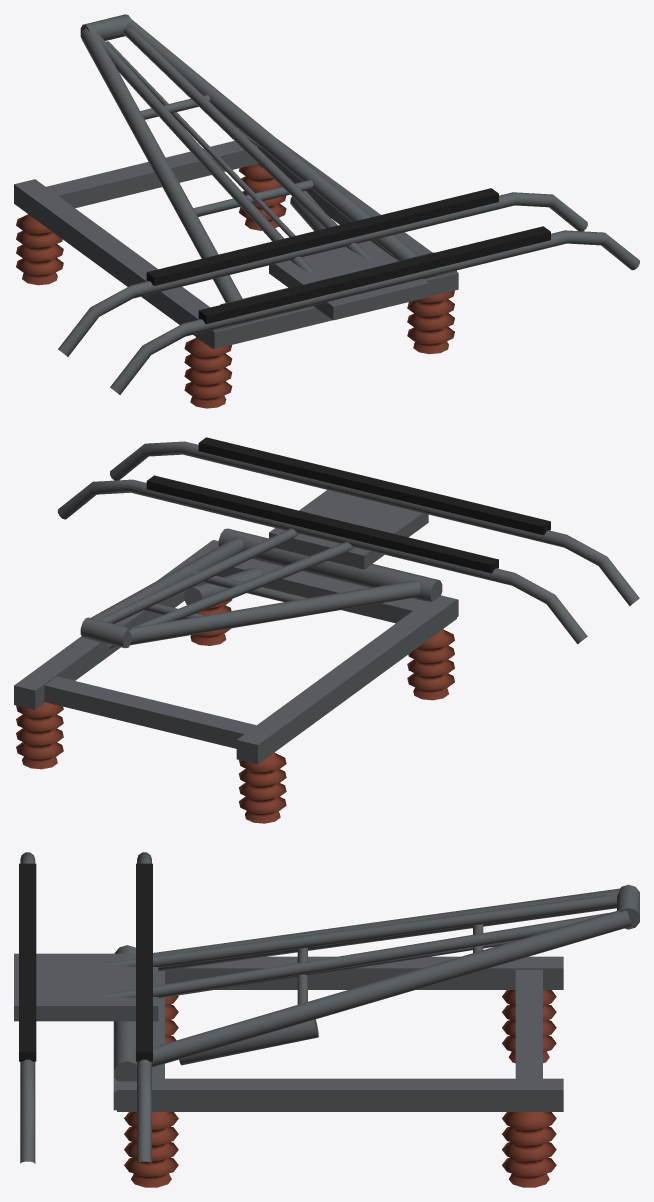
Rendered from pantograph_lod0.glb.
3 renders of one model, top to bottom at view 1: azimuth 30°, elevation 25°; view 2: azimuth 150°, elevation 25°; view 3: azimuth 270°, elevation 25°, orthographic. The views are drawn at different scales.
Parts seen in each view (by area): view 1: panto_head, panto_base, panto_lower, panto_upper; view 2: panto_base, panto_head, panto_lower, panto_upper; view 3: panto_base, panto_head, panto_lower, panto_upper.
Boxes of the visible parts, x1,y1,x2,y2 form: panto_head: (58, 188, 639, 394); panto_base: (14, 129, 458, 408); panto_lower: (80, 19, 435, 325); panto_upper: (80, 14, 371, 273); panto_base: (14, 540, 458, 823); panto_head: (57, 437, 639, 644); panto_lower: (91, 528, 442, 645); panto_upper: (80, 528, 354, 649); panto_base: (113, 956, 563, 1187); panto_head: (14, 852, 158, 1163); panto_lower: (114, 888, 631, 1081); panto_upper: (102, 884, 639, 998).
Bounding box in the file's own units: 1.99 × 0.7132 × 1.82.
